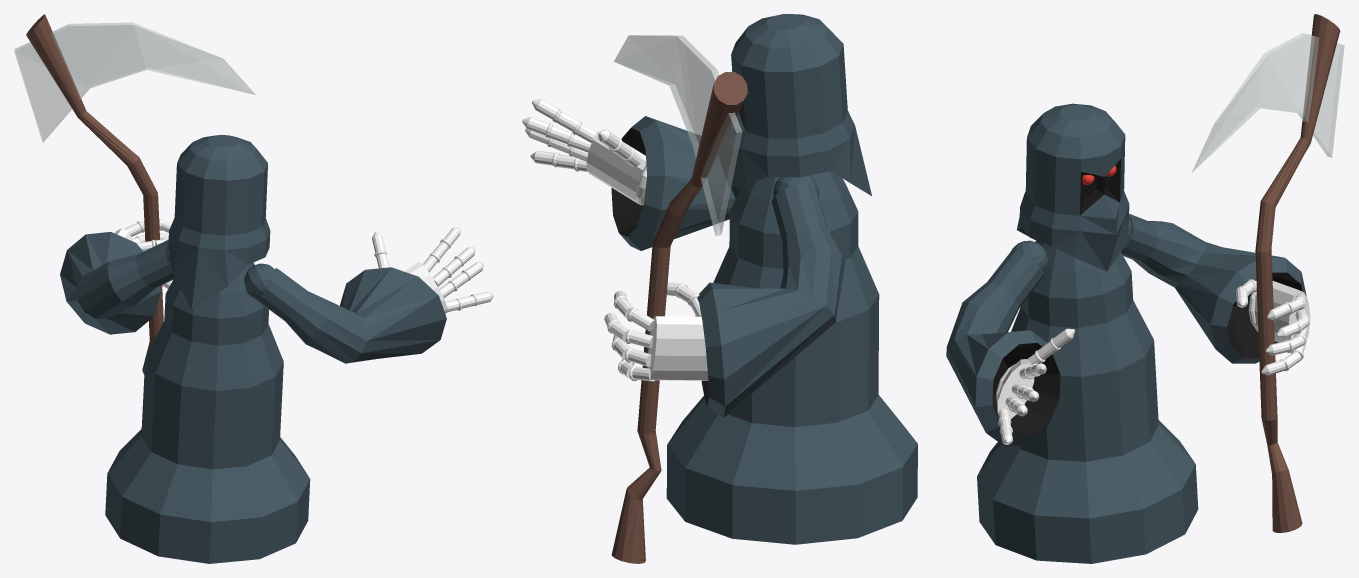
File: reaper.obj
3 renders of one model, left to right at view 1: azimuth 30°, elevation 25°; view 2: azimuth 150°, elevation 25°; view 3: azimuth 270°, elevation 25°, orthographic. The views are drawn at different scales.
Visible parts, largest first — view 1: group892375890; view 2: group892375890; view 3: group892375890.
Boxes of the visible parts, <box> form: group892375890: <box>14,14,493,563</box>; group892375890: <box>522,14,917,563</box>; group892375890: <box>946,14,1344,563</box>.
Bounding box in the file's own units: 0.8914 × 1.12 × 0.846.
